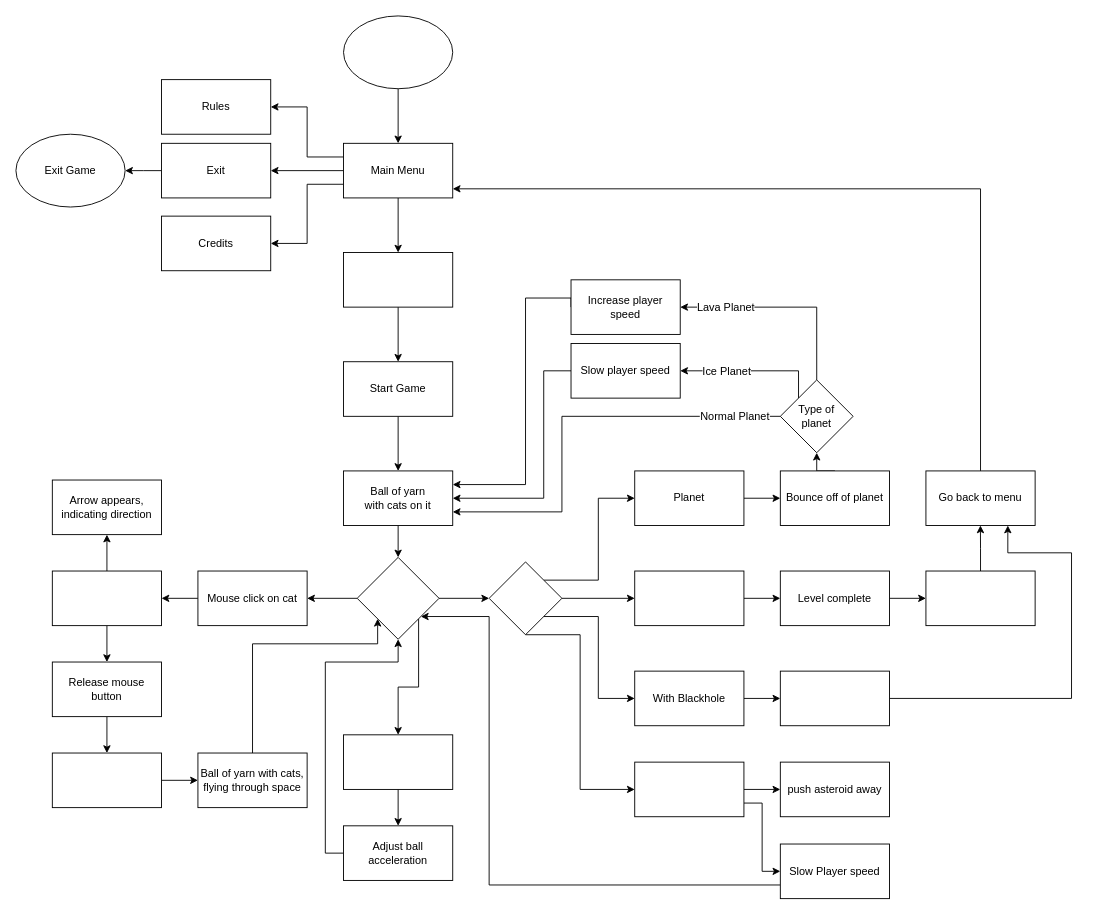
Some shapes in this 1095 by 915 pixel diagram are drawn without their labels. Here are the shapes that lost their labels. From the top down, the centre of each, then its label:
At [398,52]: "Start".
At [398,279]: "Level Selection".
At [106,598]: "Aim with mouse".
At [397,597]: "Interaction with ball?".
At [525,598]: "Collision?".
At [689,598]: "With Spacestation".
At [980,598]: "Show Score & achievements gotten".
At [834,698]: "Game Over".
At [106,780]: "Cat jumps away from yarn ball, pushing it in the indicated direction".
At [398,761]: "In range of planet's gravitation field".
At [689,789]: "With Asteroid".
